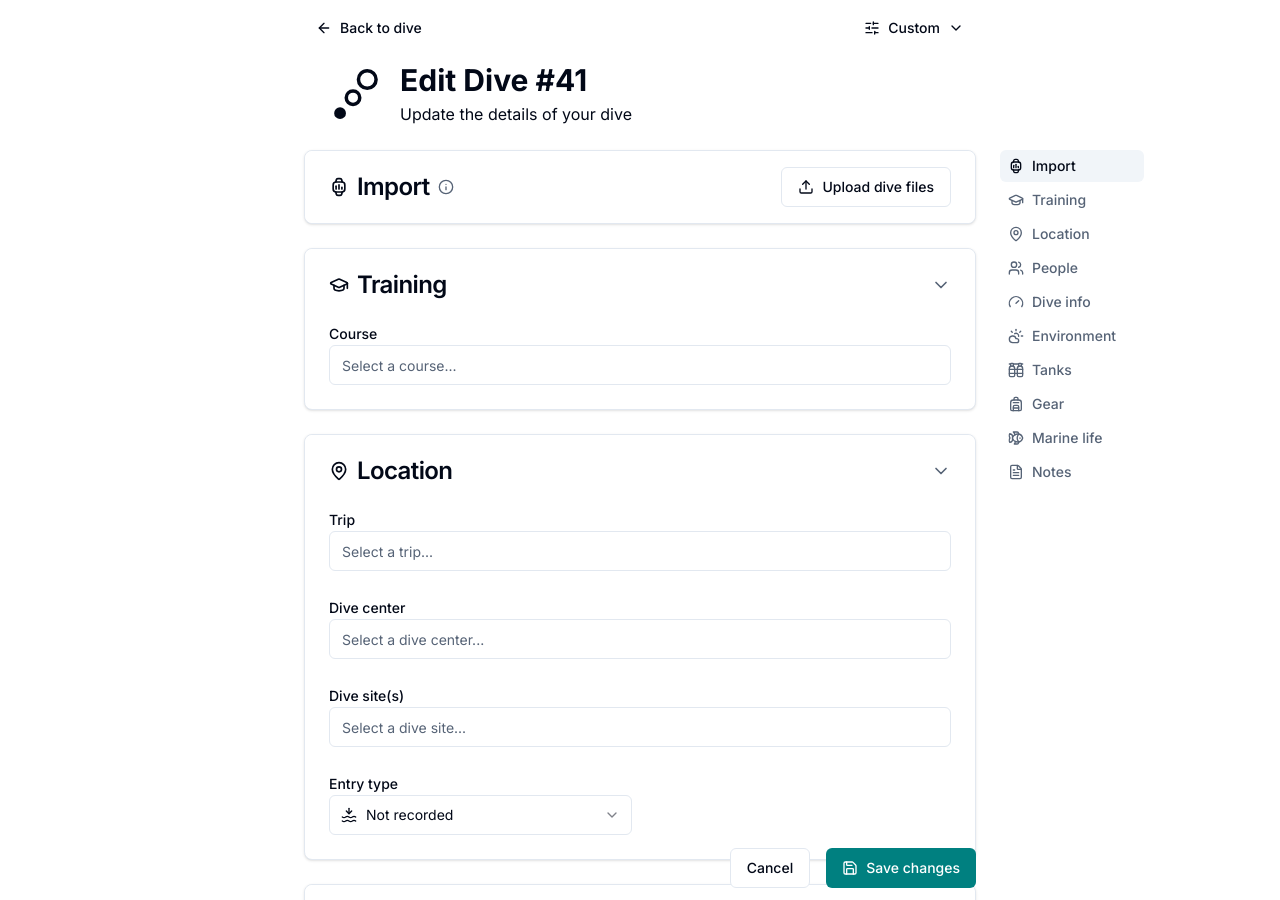
a dive whose fields the diver keeps hidden › shows the notes it records, and says why they are on screen
Click the button with aria-label "fields": (914, 28) [852, 10, 976, 46]
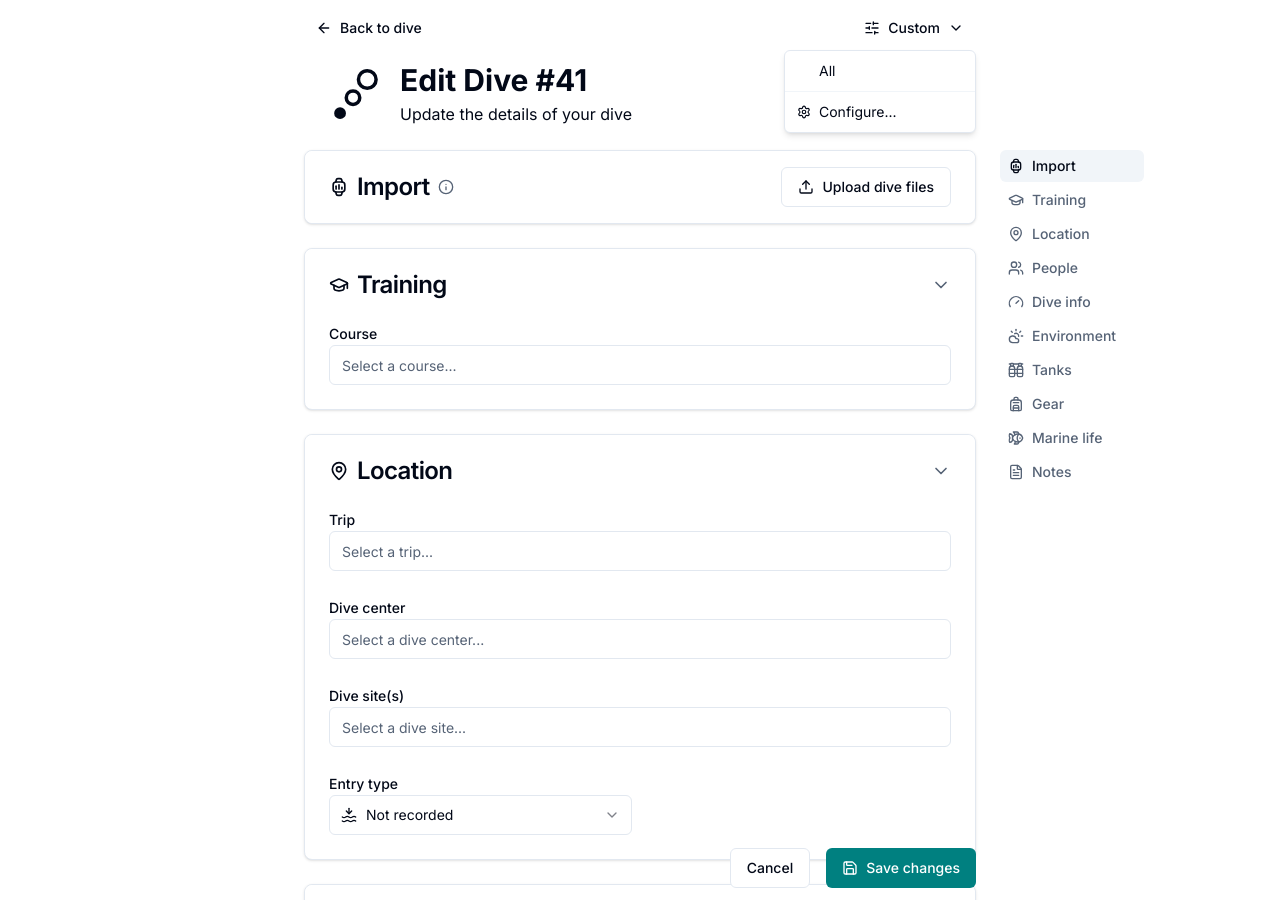
Click the menu item "Configure...": (847, 112) [797, 103, 897, 120]
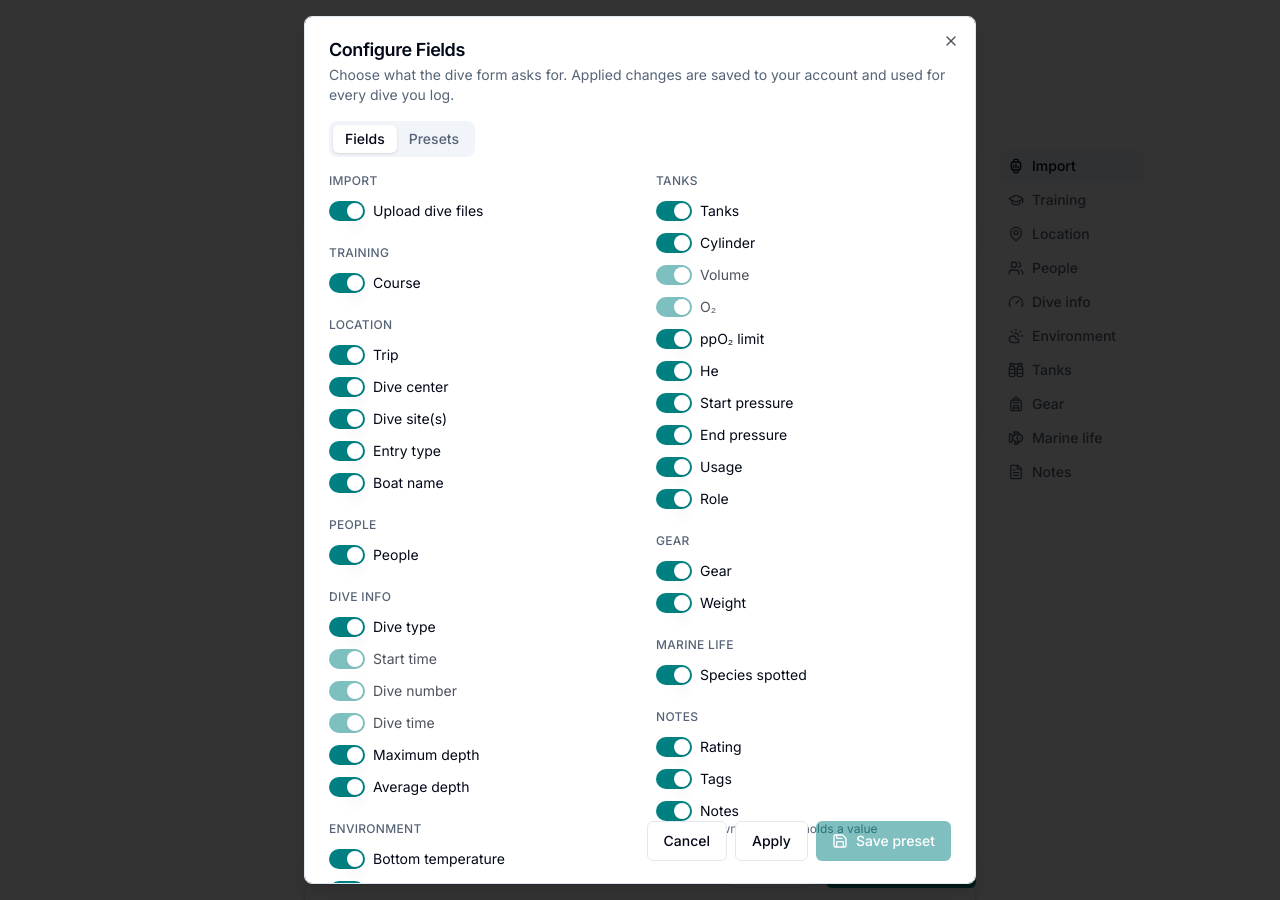
Expected: the text "shown because it holds a value" is shown, [700, 821, 878, 836]
